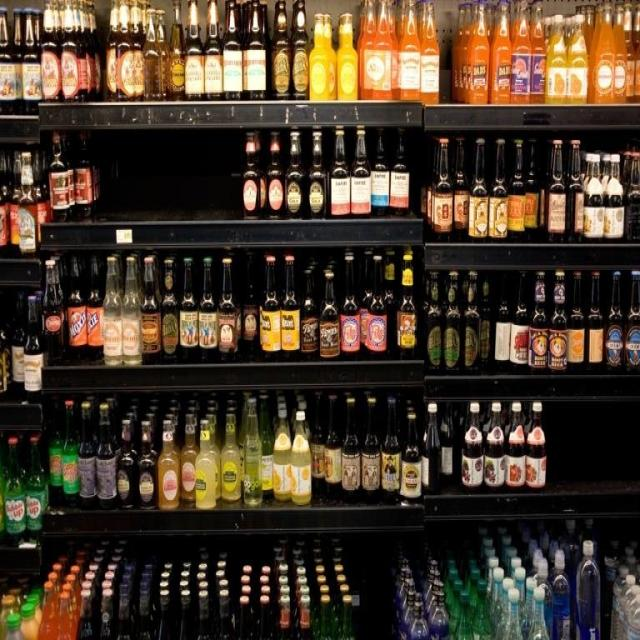Glass: (9, 16, 640, 630)
